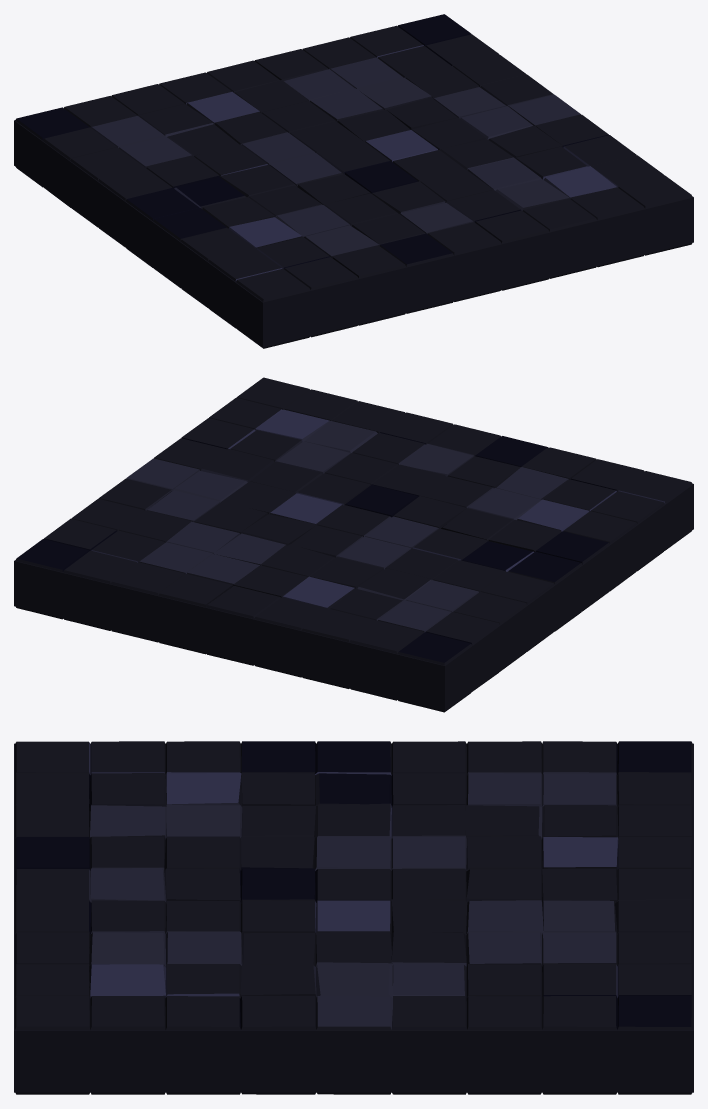
The model's file is floor 4.fbx.
3 renders of one model, top to bottom at view 1: azimuth 30°, elevation 25°; view 2: azimuth 150°, elevation 25°; view 3: azimuth 270°, elevation 25°, orthographic. The views are drawn at different scales.
Visible parts, largest first — view 1: floor4; view 2: floor4; view 3: floor4.
Part boxes in pixels (left/top/right/bottom): floor4: left=14, top=14, right=693, bottom=348; floor4: left=14, top=377, right=693, bottom=712; floor4: left=14, top=741, right=693, bottom=1094.
Bounding box in the file's own units: 400 × 45.52 × 400.
